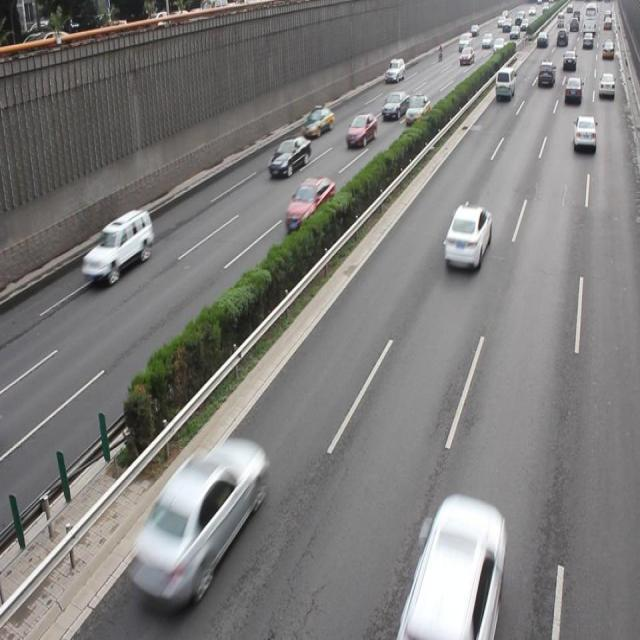car: (132, 442, 266, 599), (406, 495, 505, 640), (82, 208, 154, 278), (443, 203, 491, 270), (284, 176, 334, 234), (267, 134, 310, 178), (345, 112, 375, 148), (301, 106, 333, 138), (572, 114, 595, 150), (404, 94, 429, 126), (380, 91, 407, 119)
